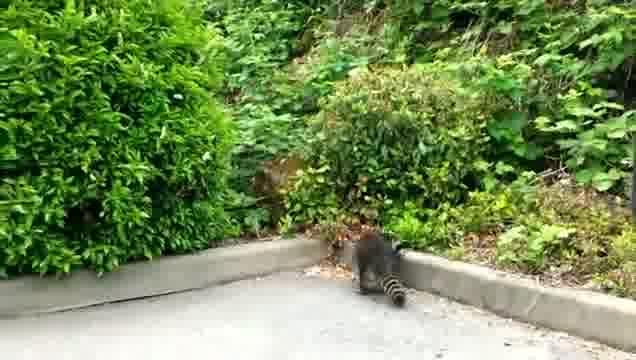raccoon: (352, 236, 410, 309)
